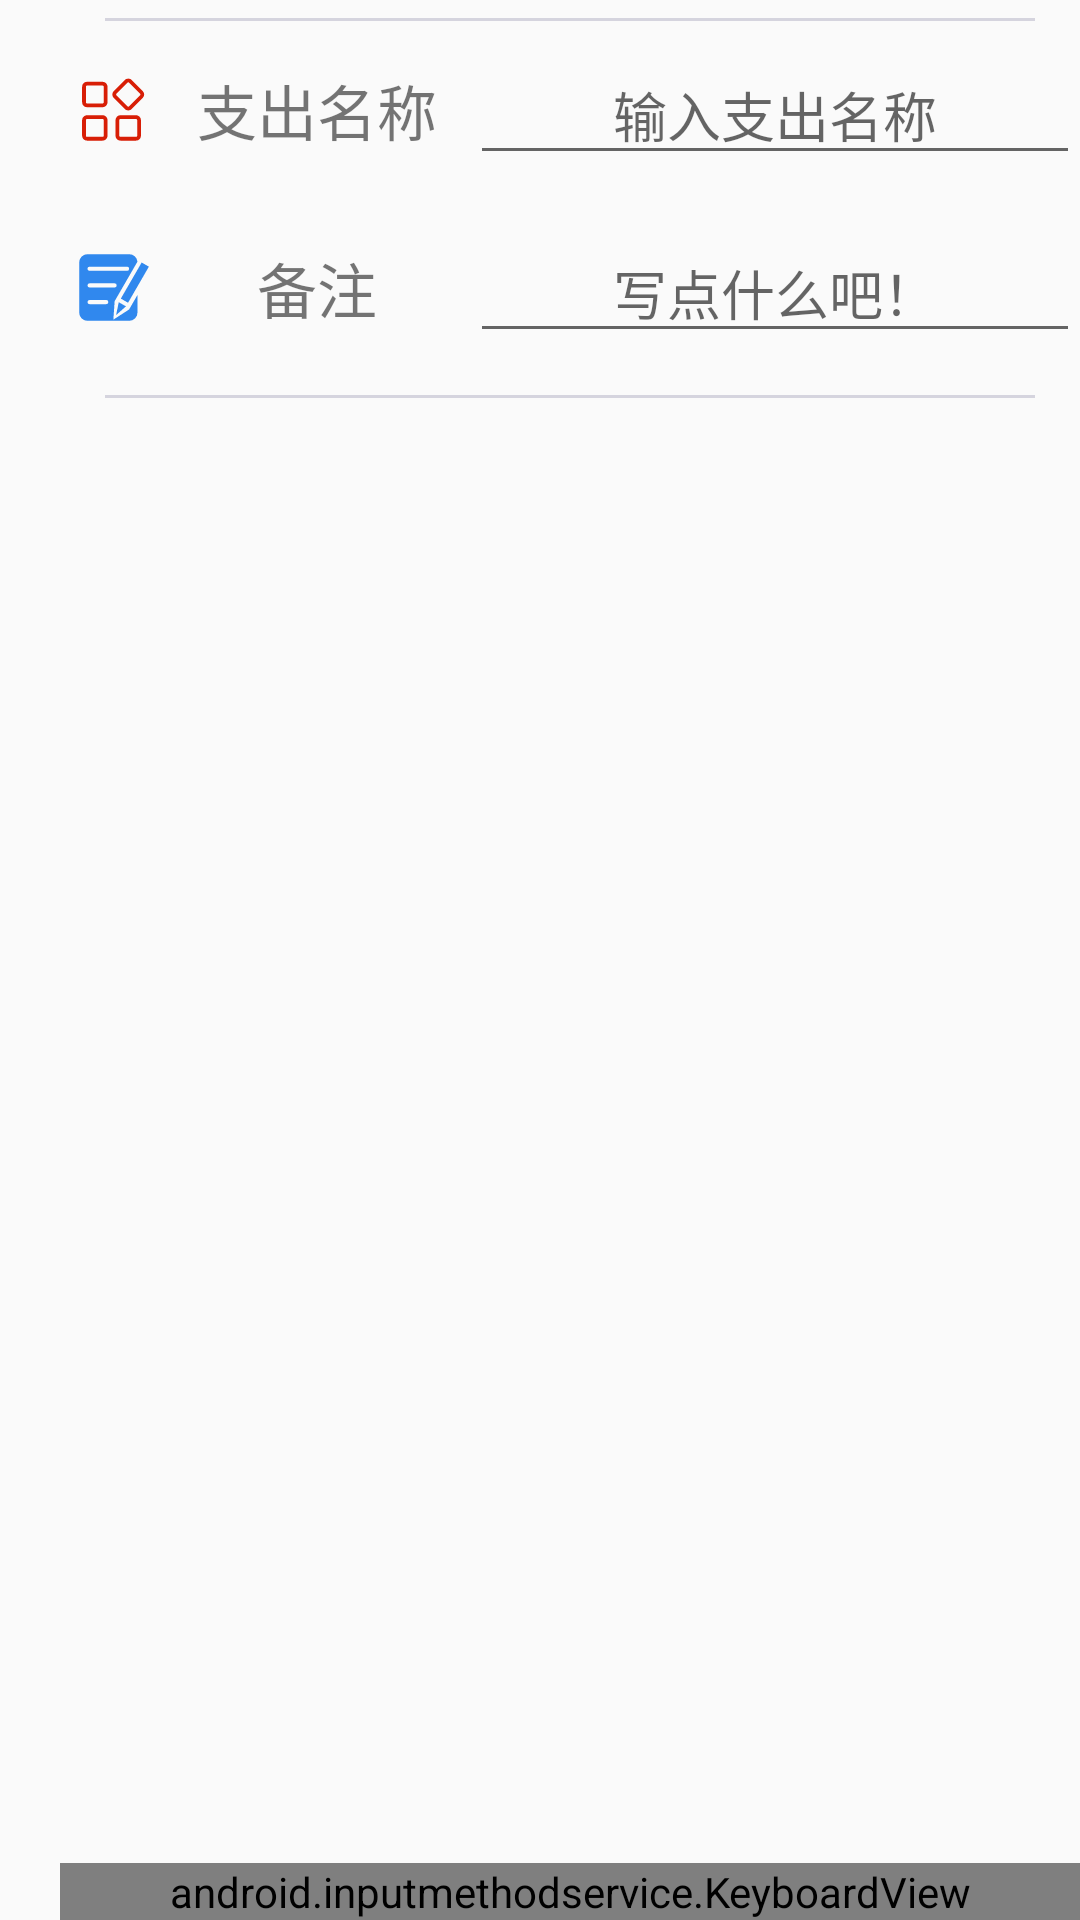

Named icons in this screenshot (1080 x 1920) and their centers, [x,y]:
category: [113,109]
note: [114,287]
